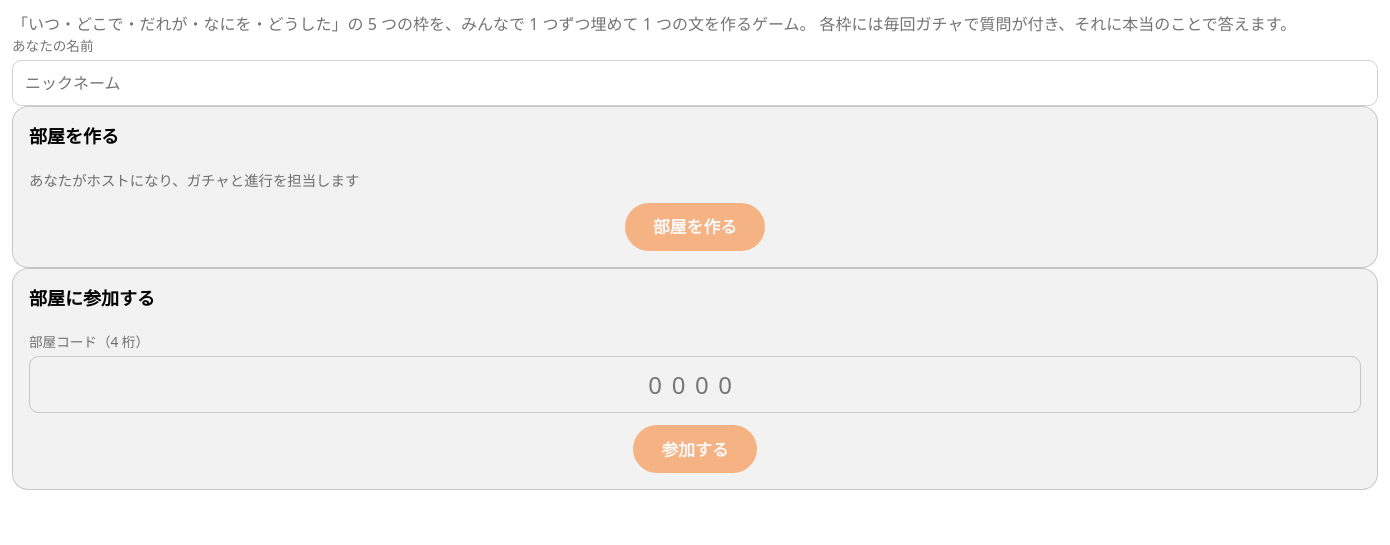
Scenario: Home › 失敗したらエラーを表示する
In the field with placeholder "ニックネーム": (695, 83) [12,60,1378,106], type "x"
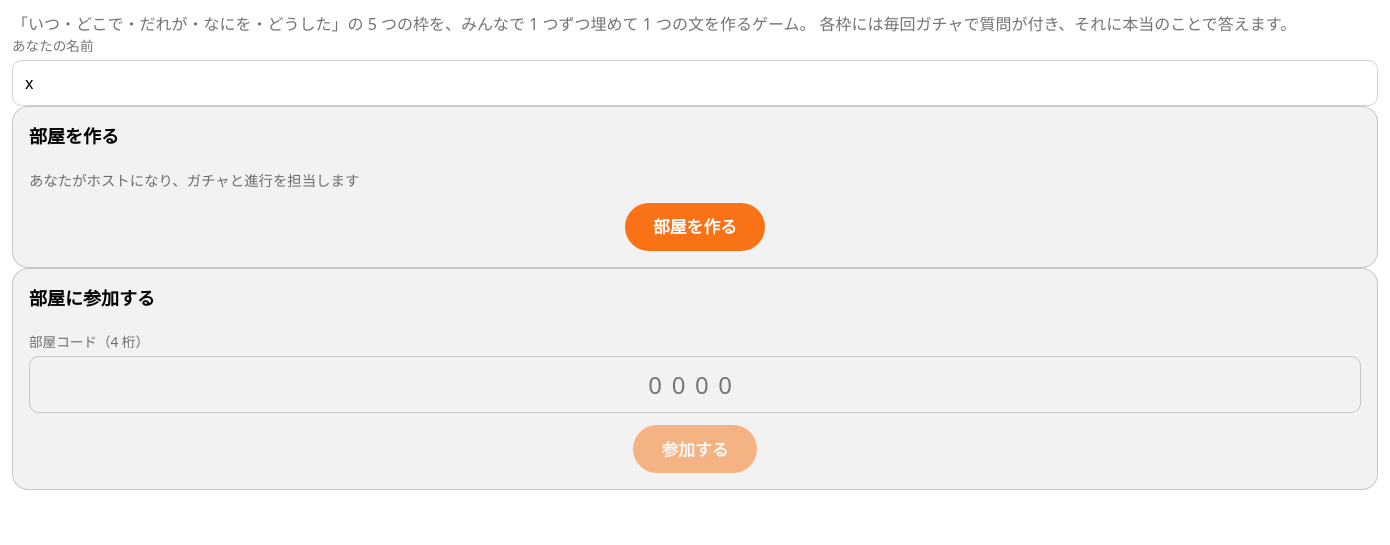
Click the button "部屋を作る": (695, 227) [625,203,765,251]
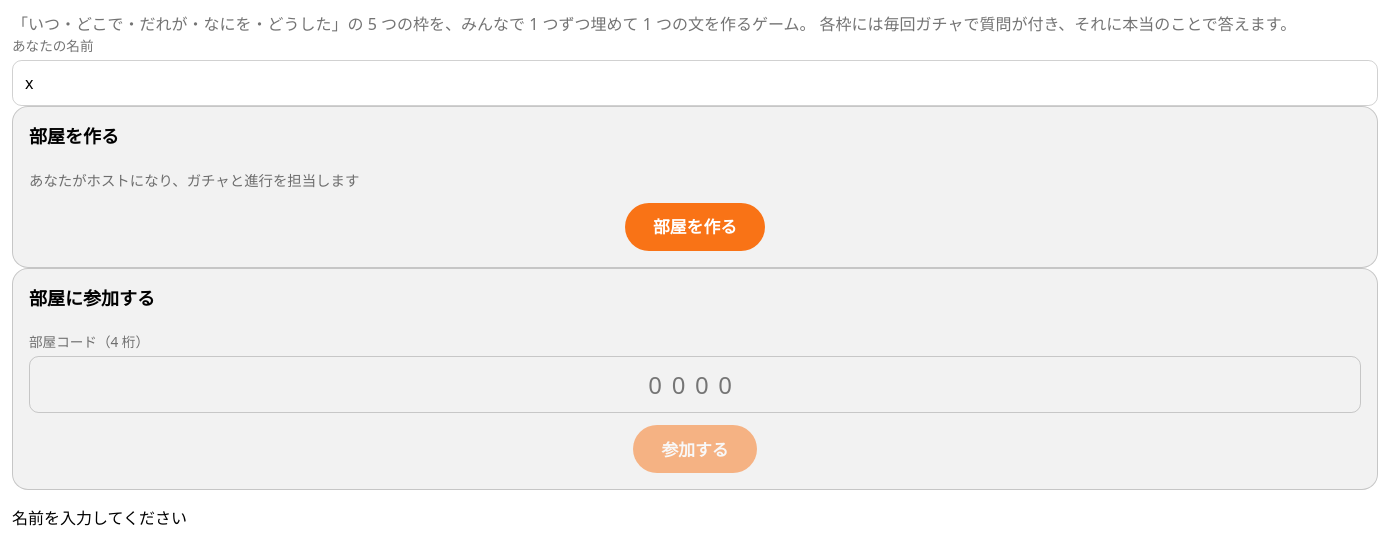
Result: the message reads "名前を入力してください" at [12,507,187,529]
